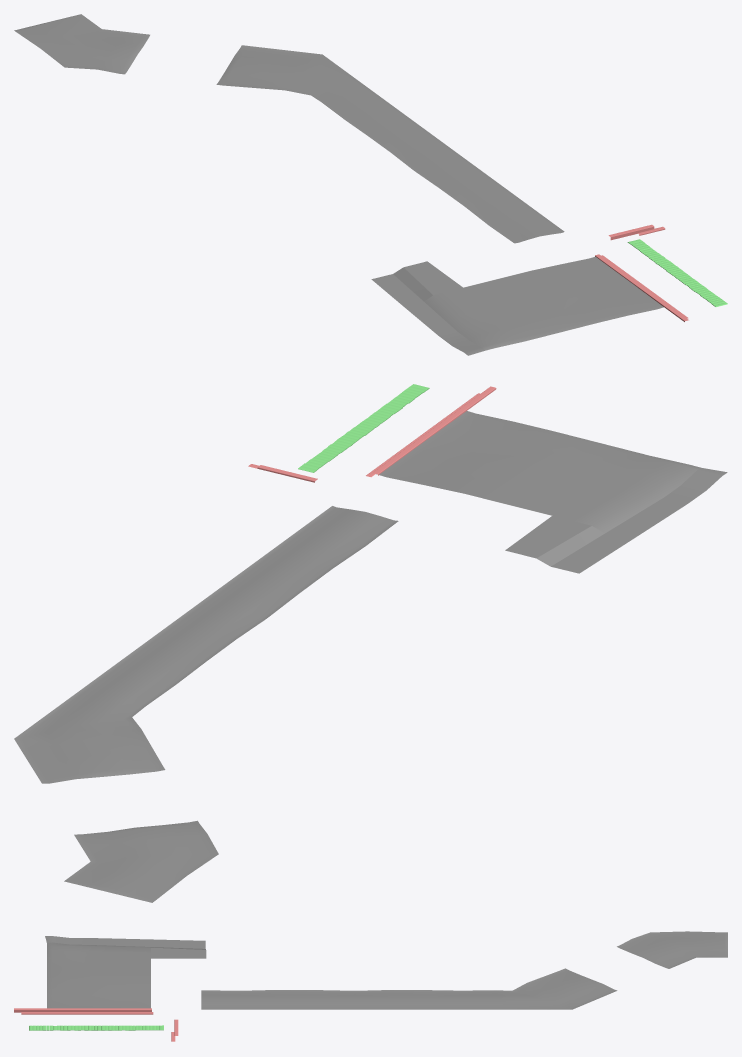
Rendered from SM_ENV_KNVLLG03_Ground_B.gltf.
3 renders of one model, top to bottom at view 1: azimuth 30°, elevation 25°; view 2: azimuth 150°, elevation 25°; view 3: azimuth 270°, elevation 25°, orthographic. The views are drawn at different scales.
Visible parts, largest first — view 1: SM_ENV_KNVLLG03_Ground_B; view 2: SM_ENV_KNVLLG03_Ground_B; view 3: SM_ENV_KNVLLG03_Ground_B.
Boxes of the visible parts, bbox=[...] form: SM_ENV_KNVLLG03_Ground_B: bbox=[14, 14, 727, 355]; SM_ENV_KNVLLG03_Ground_B: bbox=[14, 384, 727, 902]; SM_ENV_KNVLLG03_Ground_B: bbox=[14, 931, 727, 1041].
Bounding box in the file's own units: 29.48 × 0.5395 × 82.69.
